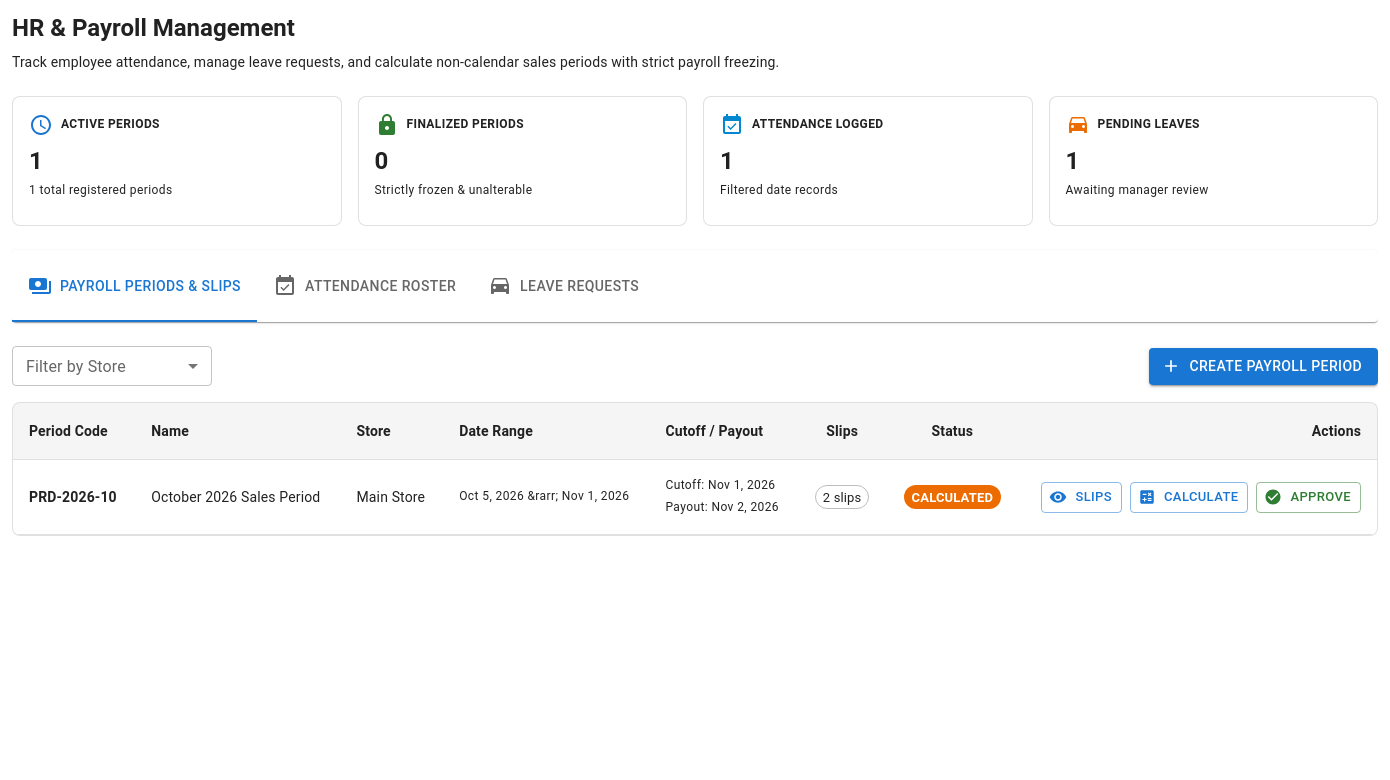
Test case: PayrollPage › switches between tabs cleanly
Switch to Attendance Roster
Click the tab "Attendance Roster".
click(365, 286)  # box [257, 250, 472, 322]
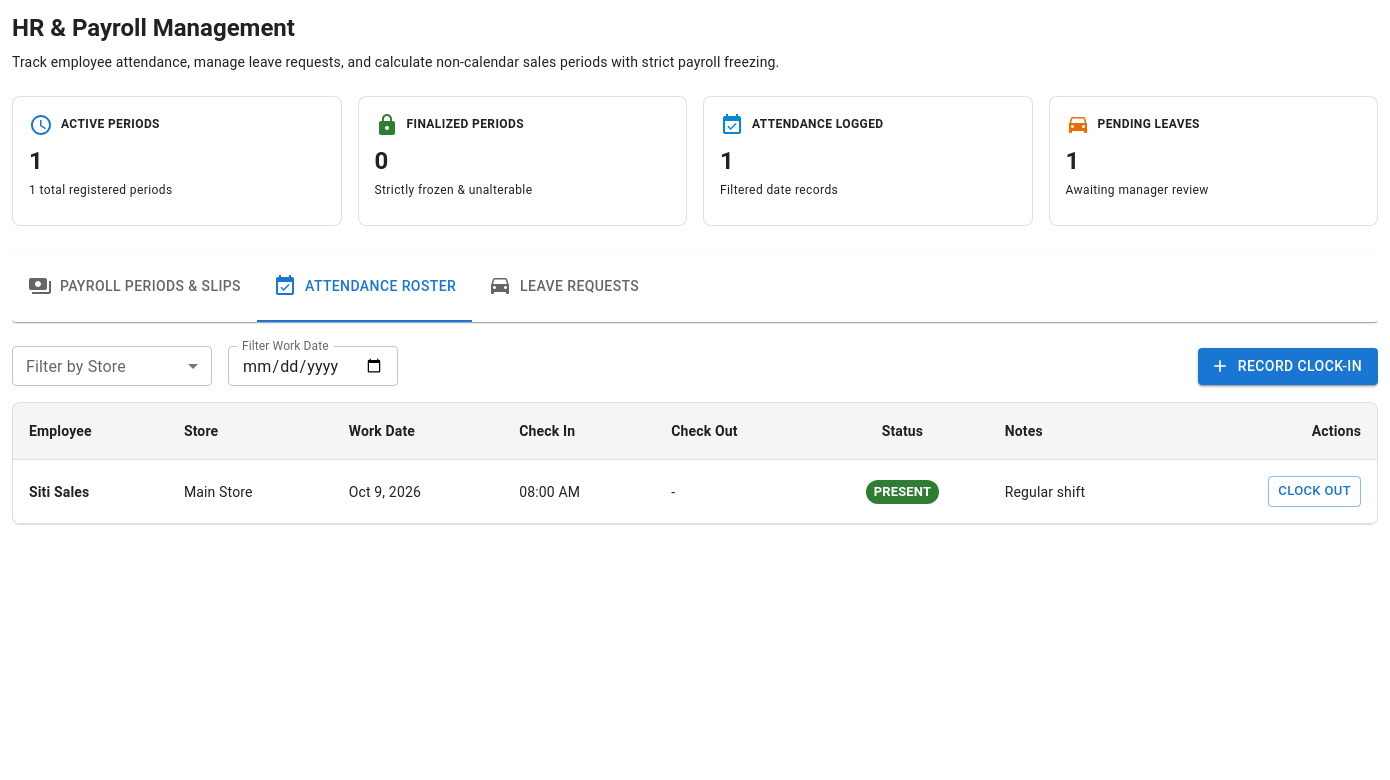
Check: the button "Record Clock-In" is shown, box [1198, 348, 1378, 385]
Check: the text "Siti Sales" is shown, box [29, 484, 89, 500]
Switch to Leave Requests
Click the tab "Leave Requests".
click(564, 286)  # box [472, 250, 655, 322]
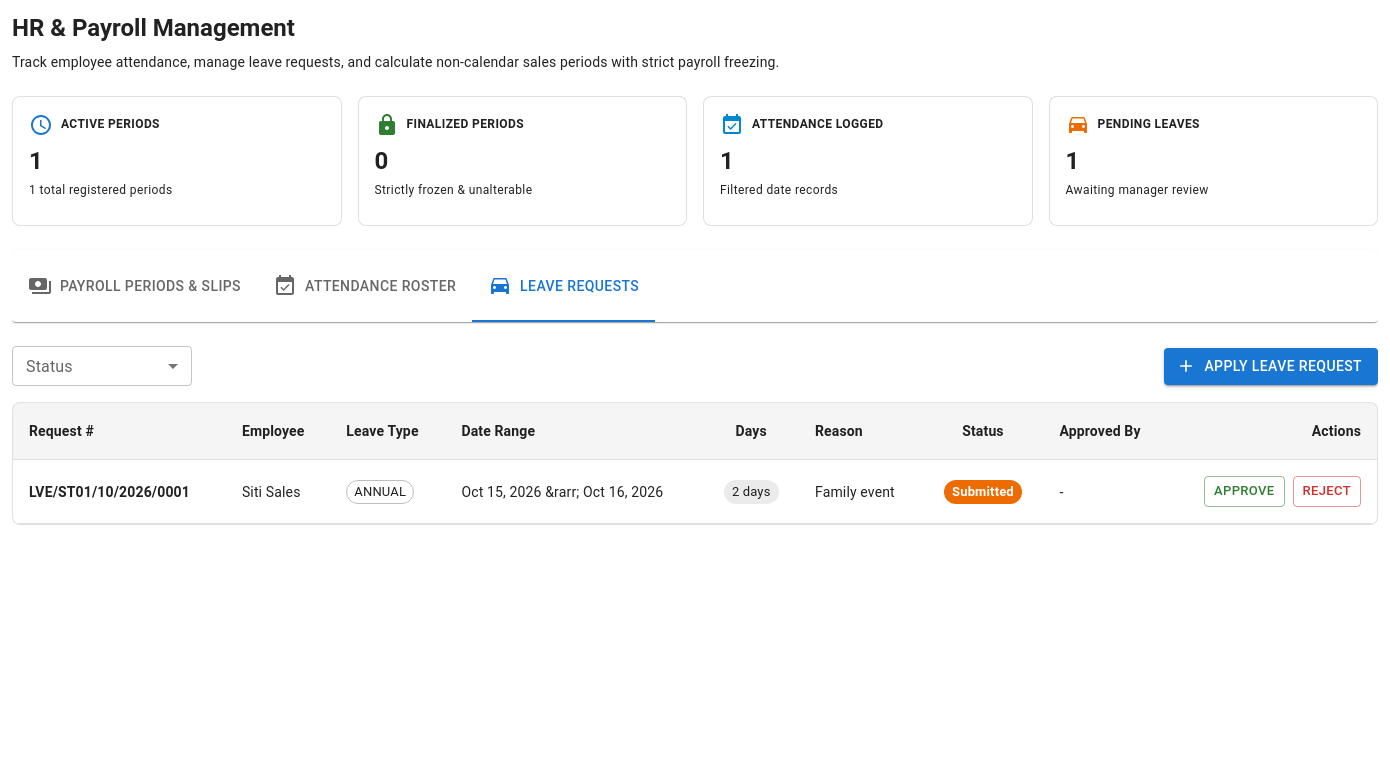
Check: the button "Apply Leave Request" is shown, box [1164, 348, 1378, 385]
Check: the text "LVE/ST01/10/2026/0001" is shown, box [29, 482, 210, 502]
Check: the text "Family event" is shown, box [799, 460, 922, 524]
